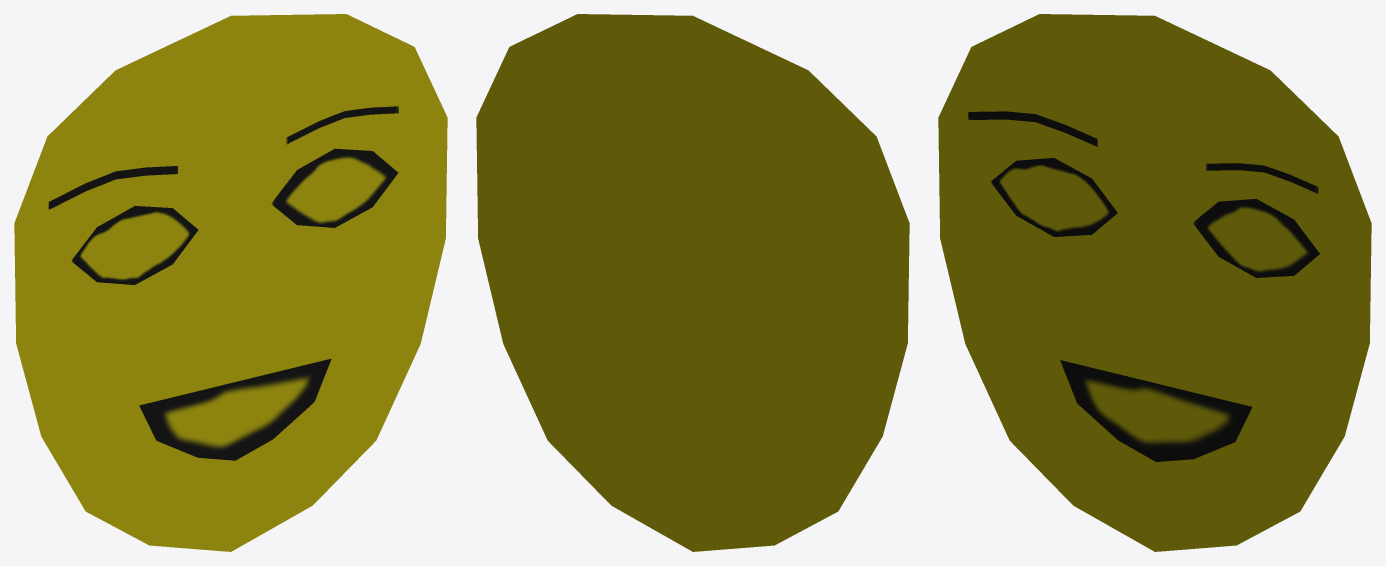
The model's file is basic_avatar_head.glb.
3 renders of one model, left to right at view 1: azimuth 30°, elevation 25°; view 2: azimuth 150°, elevation 25°; view 3: azimuth 330°, elevation 25°, orthographic.
Visible parts, largest first — view 1: head, mouth, rightEye, leftEye, rightEyebrow, leftEyebrow; view 2: head; view 3: head, mouth, leftEye, rightEye, rightEyebrow, leftEyebrow.
Boxes of the visible parts, <box> form: head: <box>14,14,447,551</box>; mouth: <box>139,358,331,460</box>; rightEye: <box>71,206,198,284</box>; leftEye: <box>271,148,398,227</box>; rightEyebrow: <box>48,166,177,209</box>; leftEyebrow: <box>286,106,398,144</box>; head: <box>476,14,909,551</box>; head: <box>938,14,1371,551</box>; mouth: <box>1060,360,1252,461</box>; leftEye: <box>1193,199,1319,277</box>; rightEye: <box>991,158,1117,236</box>; rightEyebrow: <box>968,111,1097,146</box>; leftEyebrow: <box>1206,163,1318,193</box>.
Bounding box in the file's own units: 3.08 × 3.64 × 0.0289.
Materials: 6 (6 with a texture image).
